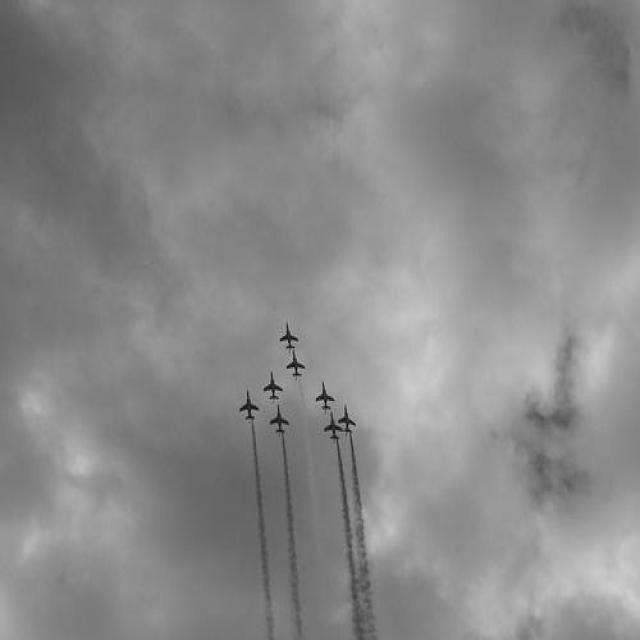aeroplane: (270, 404, 291, 436), (264, 372, 284, 405), (240, 389, 258, 425), (286, 350, 308, 379), (314, 386, 336, 414), (323, 412, 343, 440), (338, 404, 356, 434), (279, 324, 298, 350)
